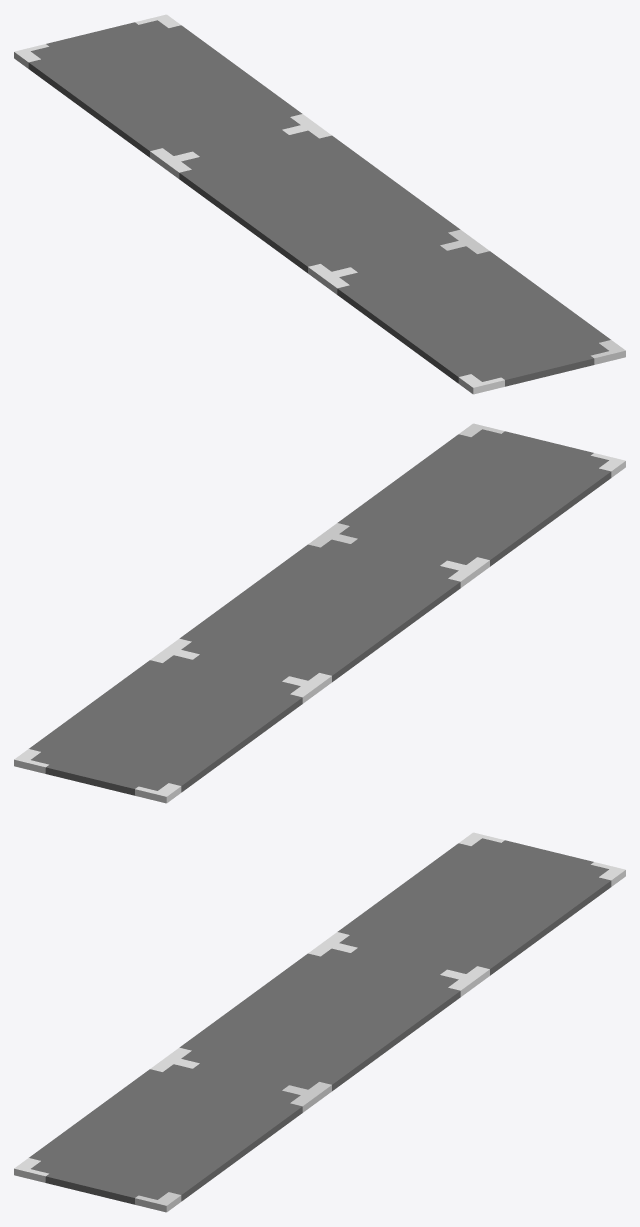
The model's file is parking-lane.obj.
3 renders of one model, top to bottom at view 1: azimuth 30°, elevation 25°; view 2: azimuth 150°, elevation 25°; view 3: azimuth 330°, elevation 25°, orthographic.
Bounding box in the file's own units: 24 × 1 × 125.
Materials: 1 (1 with a texture image).
